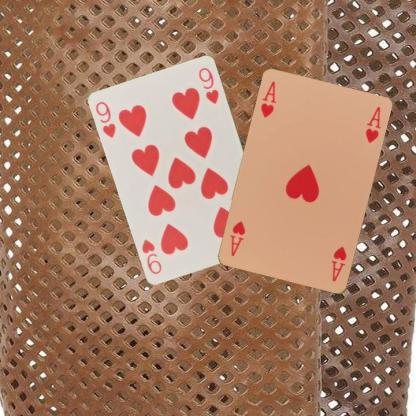9h: (93, 99, 117, 140)
Ah: (258, 79, 278, 119), (330, 244, 348, 284)
